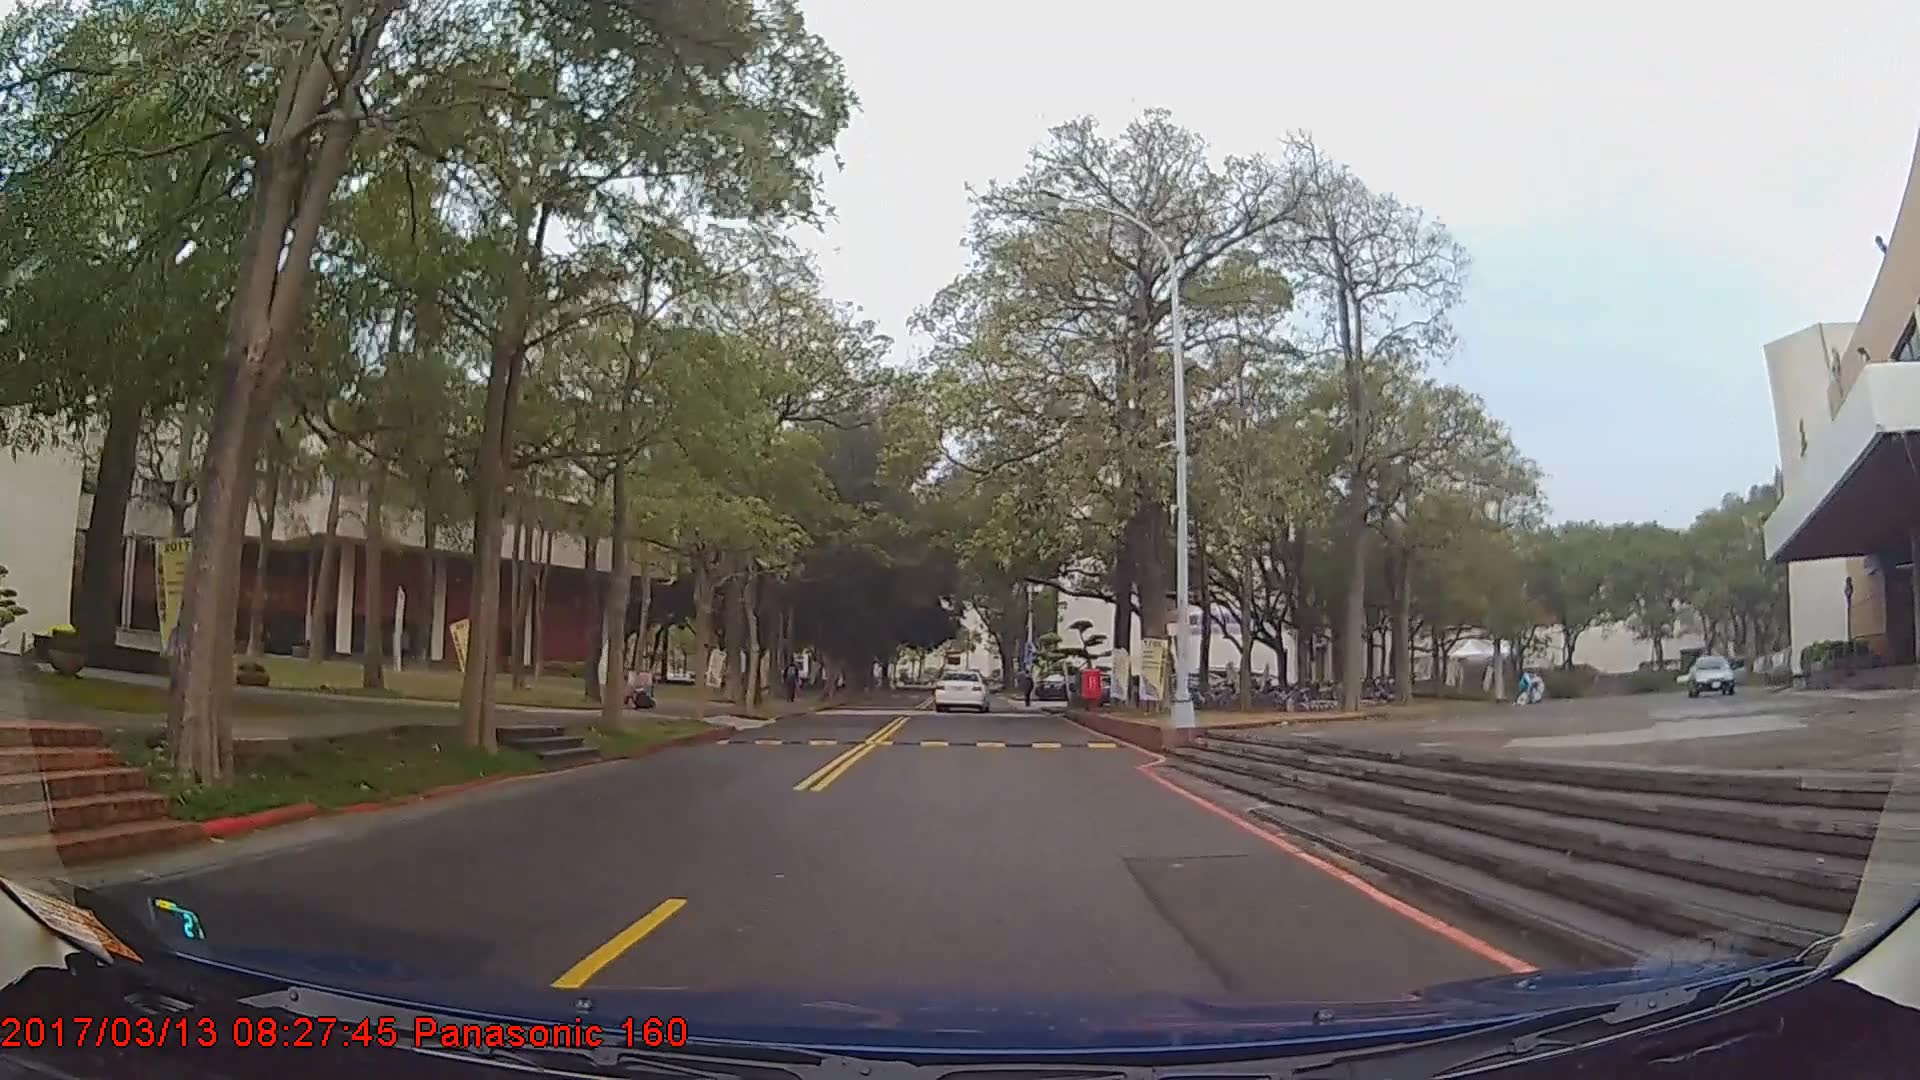vehicle: (1684, 651, 1753, 698), (932, 669, 990, 712)
